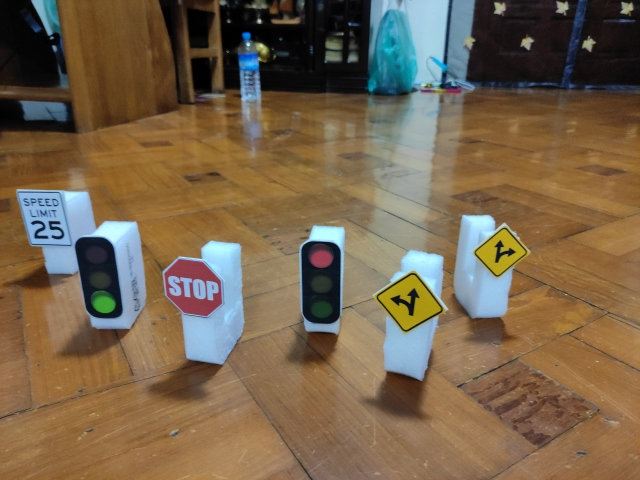Green Traffic Light: (74, 236, 123, 318)
Red Traffic Light: (301, 241, 342, 323)
Speed Limit 25: (16, 190, 73, 247)
Stop Sign: (163, 257, 225, 317)
Straight Or Left Sign: (372, 273, 449, 333)
Straight Or Right Sign: (473, 226, 528, 276)
